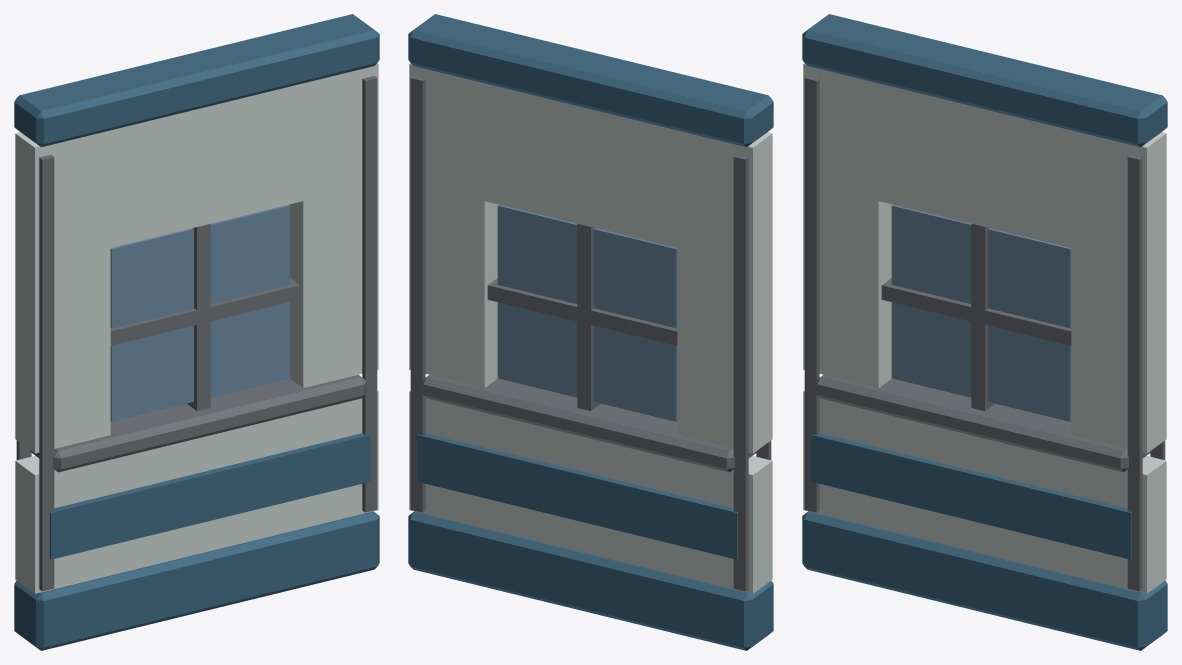
Rendered from installation-sensor-wall-window.glb.
The picture shows the model from 3 angles, left to right: view 1: azimuth 30°, elevation 25°; view 2: azimuth 150°, elevation 25°; view 3: azimuth 330°, elevation 25°; orthographic projection.
Parts seen in each view (by area): view 1: head, glass, spandrel, plinth, cornice, blue_service_band, jamb_l, jamb_r, sill, panel_joint, panel_joint.002, transom (+1 smaller); view 2: head, glass, spandrel, plinth, cornice, blue_service_band.001, jamb_l, jamb_r, sill, panel_joint.001, panel_joint.003, transom (+1 smaller); view 3: head, glass, spandrel, plinth, cornice, blue_service_band, jamb_r, jamb_l, sill, panel_joint.002, panel_joint, transom (+1 smaller).
Part boxes in pixels (x1,y1,x2,y2): head: (15, 63, 378, 266); glass: (110, 204, 290, 421); spandrel: (15, 390, 378, 593); plinth: (14, 511, 379, 650); cornice: (14, 14, 379, 147); blue_service_band: (50, 433, 370, 559); jamb_l: (15, 248, 110, 453); jamb_r: (289, 183, 378, 387); sill: (30, 374, 366, 472); panel_joint: (39, 154, 54, 591); panel_joint.002: (362, 76, 377, 512); transom: (110, 278, 300, 345); head: (409, 63, 772, 266); glass: (497, 204, 677, 421); spandrel: (409, 390, 772, 593); plinth: (408, 511, 773, 650); cornice: (408, 14, 773, 147); blue_service_band.001: (417, 433, 737, 559); jamb_l: (677, 248, 772, 453); jamb_r: (409, 183, 498, 387); sill: (421, 374, 757, 472); panel_joint.001: (733, 154, 748, 591); panel_joint.003: (410, 76, 425, 512); transom: (487, 278, 677, 345); head: (803, 63, 1166, 266); glass: (891, 204, 1071, 421); spandrel: (803, 390, 1166, 593); plinth: (802, 511, 1167, 650); cornice: (802, 14, 1167, 147); blue_service_band: (811, 433, 1131, 559); jamb_r: (1071, 248, 1166, 453); jamb_l: (803, 183, 892, 387); sill: (815, 374, 1151, 472); panel_joint.002: (1127, 154, 1142, 591); panel_joint: (804, 76, 819, 512); transom: (881, 278, 1071, 345).
Size of the model in its own units: 1 by 1.5 by 0.16.
